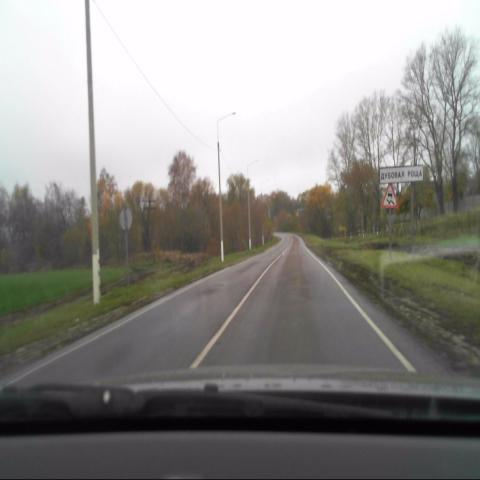1_15: (381, 183, 400, 207)
